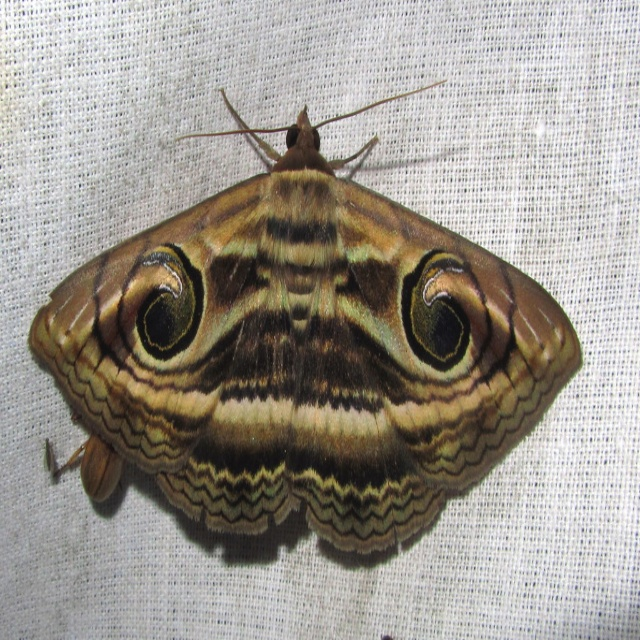Butterfly: (39, 78, 586, 567)
